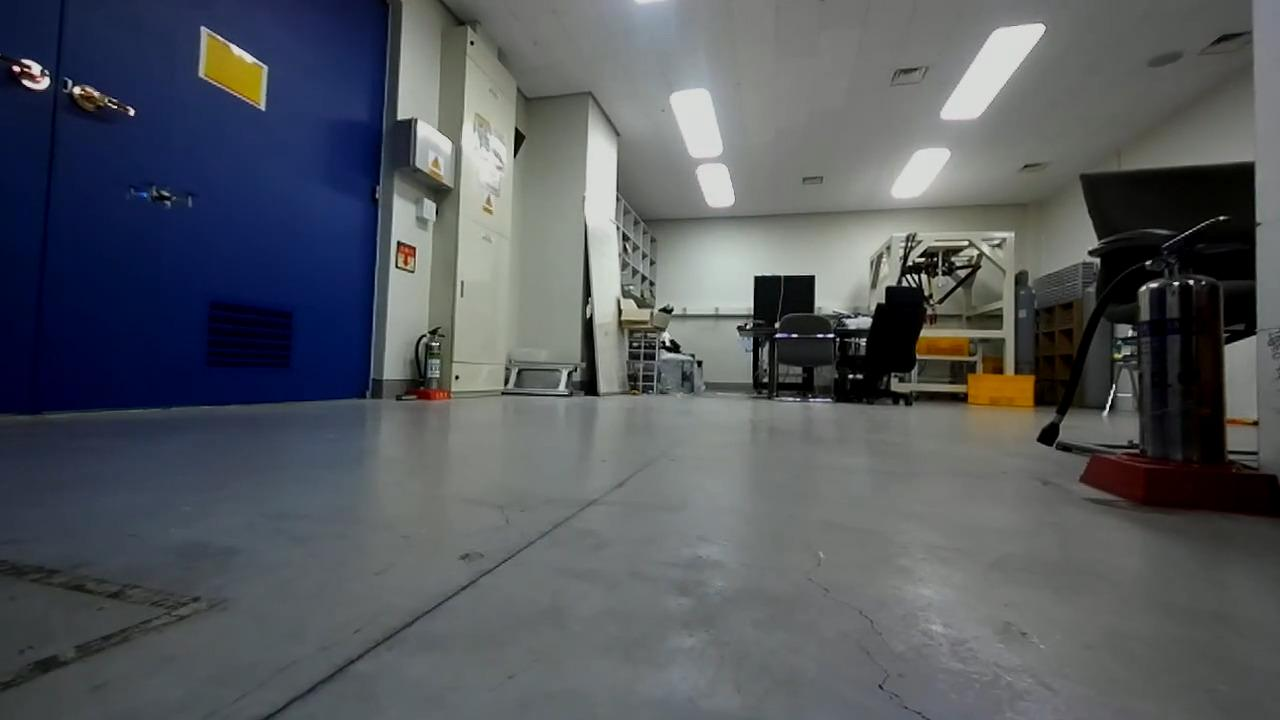crazyflie: (124, 178, 198, 214)
